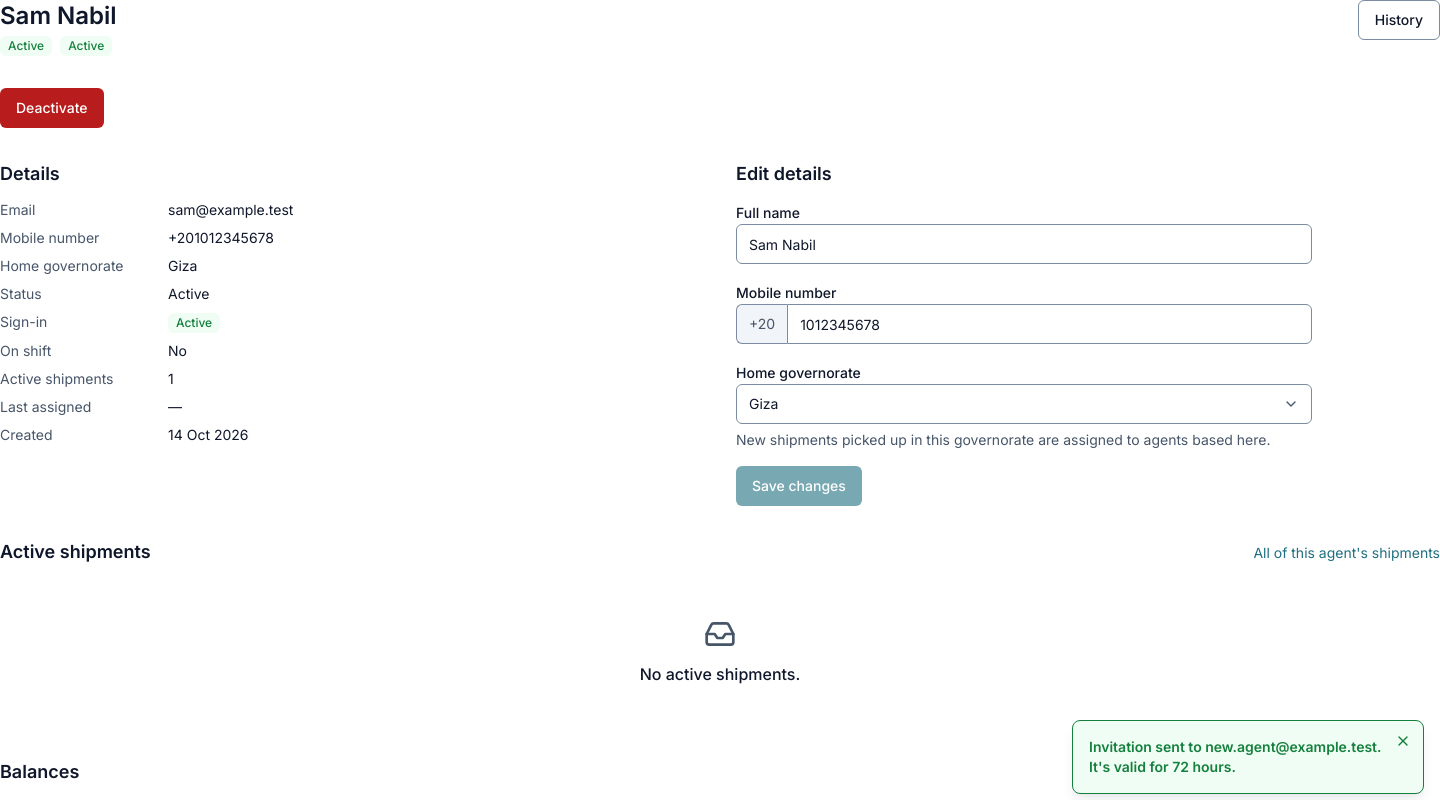
agent (spec 03 AD-11) › deactivate and activate replace the agent from the answer
This screenshot has width=1440, height=800.
Click the button "Deactivate".
click(52, 108)  # box [0,88,104,128]
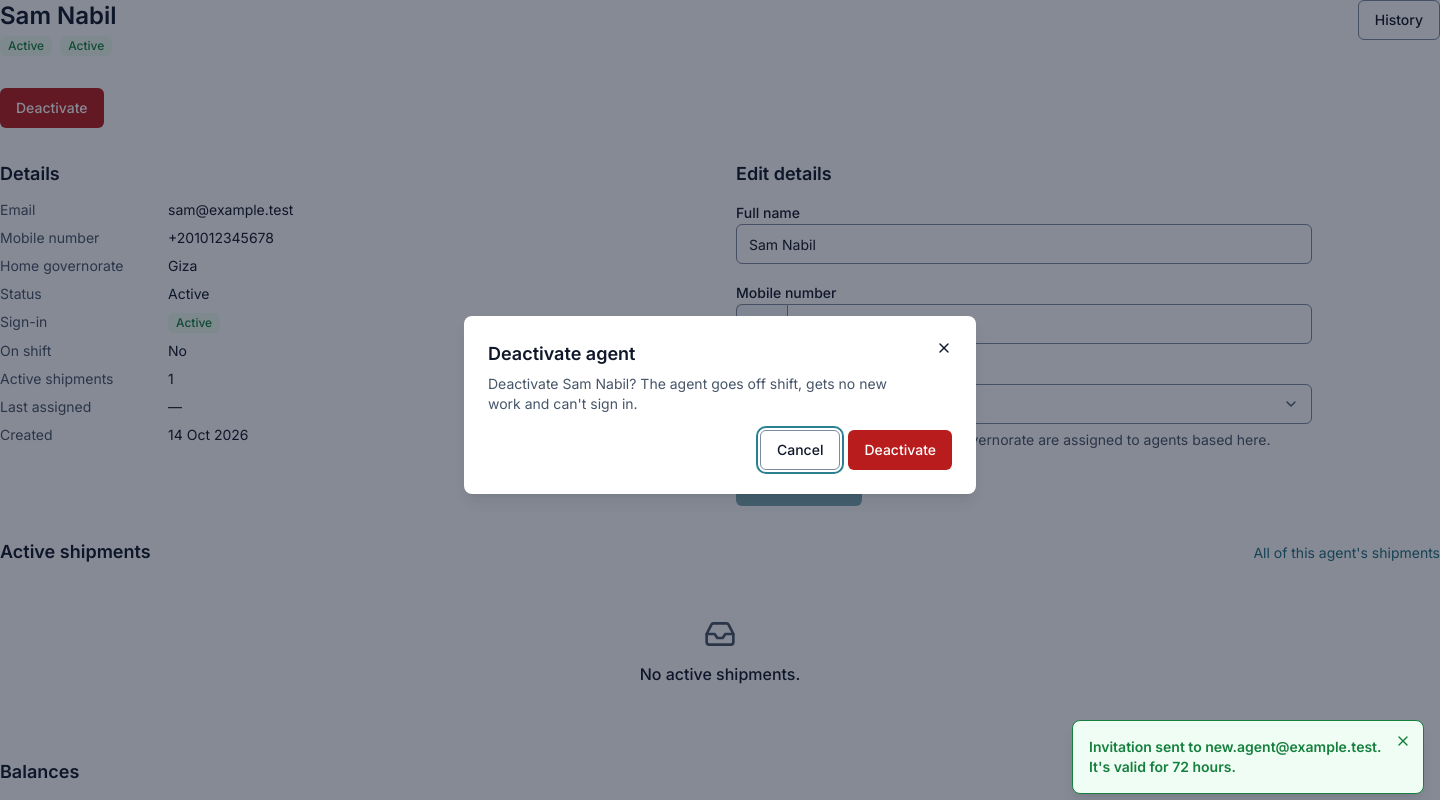
Click the button "Deactivate".
click(900, 450)  # box [848,430,952,470]
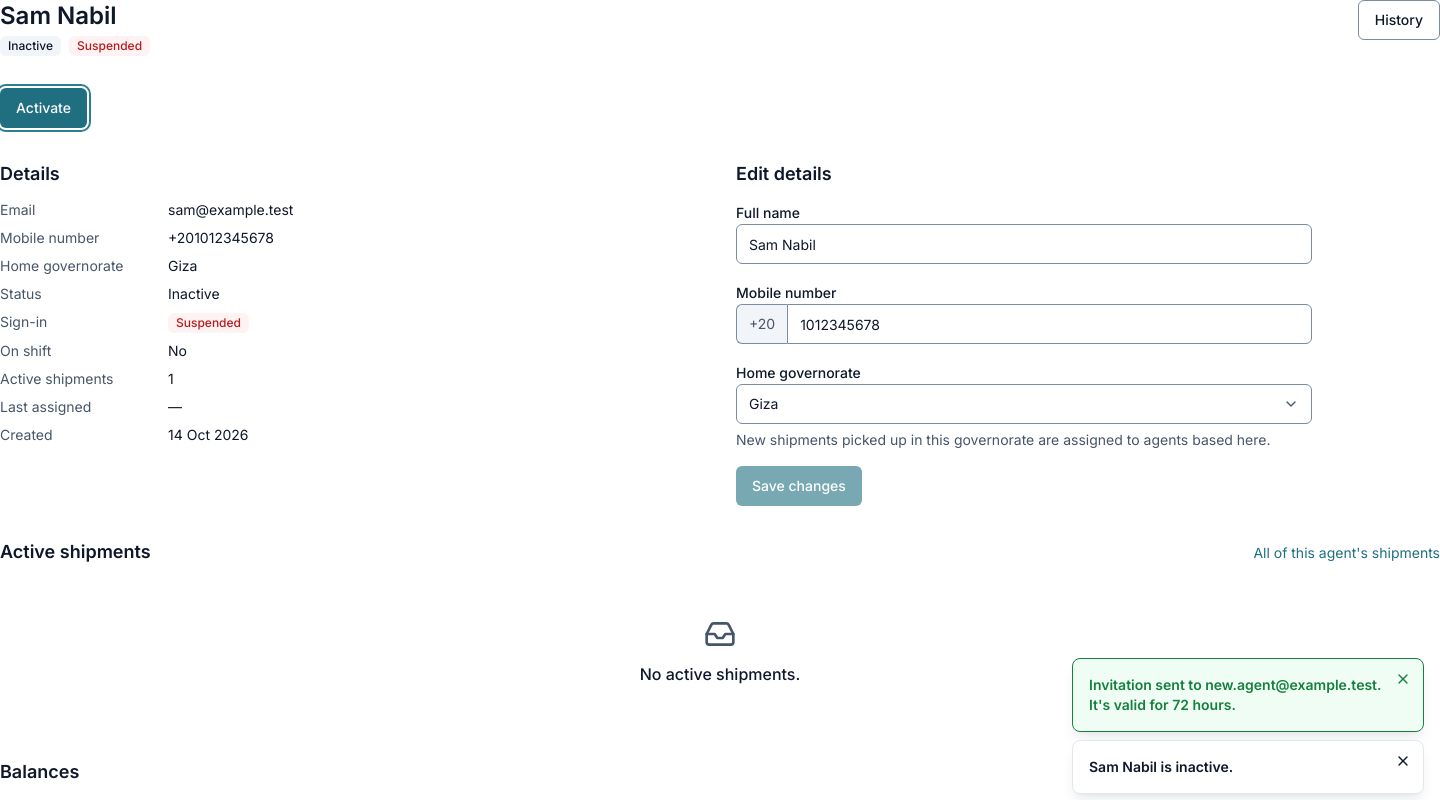
Expected: the button "Activate" is shown, [0,88,87,128]
Now the text "Sam Nabil is inactive." is shown, box [1089,758,1233,775]
